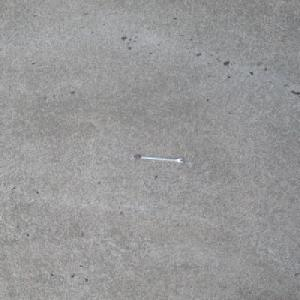Wrench: (132, 154, 184, 163)
